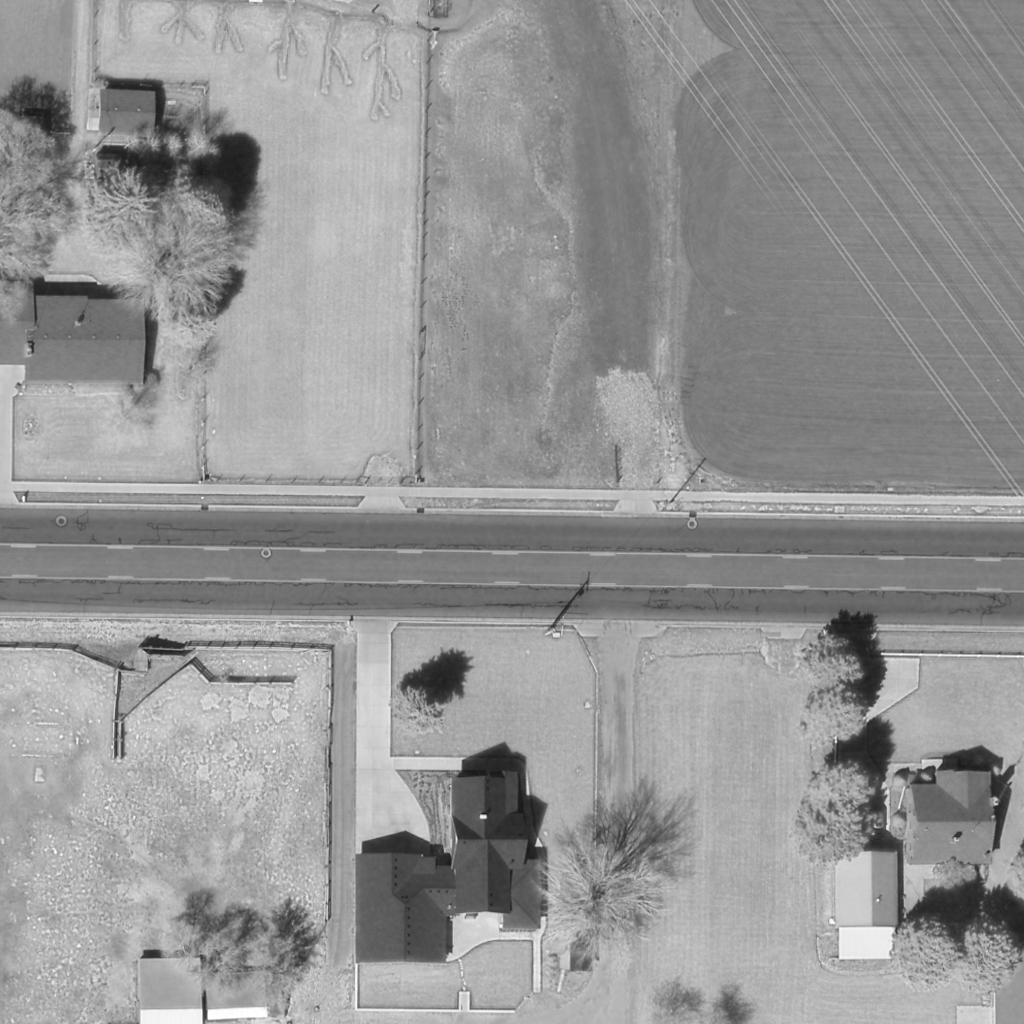vehicle: (865, 808, 887, 842)
